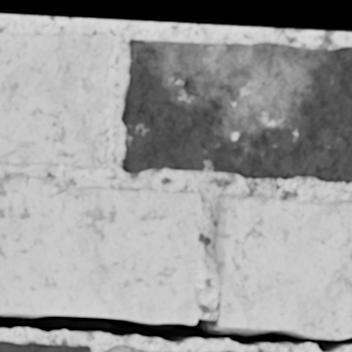brick: (121, 41, 351, 182), (0, 176, 201, 324), (212, 195, 351, 339), (0, 33, 113, 168), (0, 341, 90, 351), (107, 344, 148, 351)
crack: (0, 314, 351, 351)
